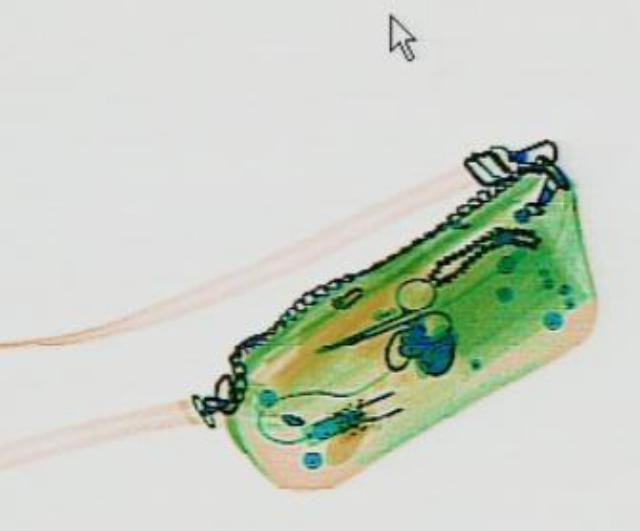Scissors: (295, 269, 463, 377)
